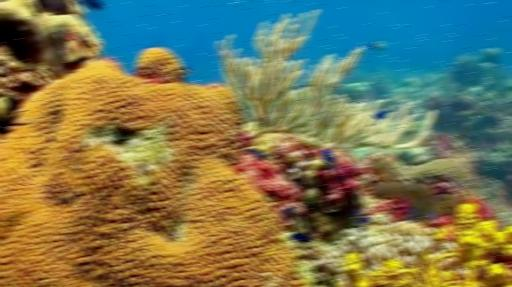Fish: (0, 110, 22, 126), (321, 148, 334, 170), (81, 0, 104, 11), (279, 205, 296, 218), (246, 148, 265, 159), (373, 108, 390, 120), (290, 233, 311, 242), (369, 41, 385, 50), (357, 217, 370, 224), (181, 65, 190, 75), (429, 211, 434, 219)
